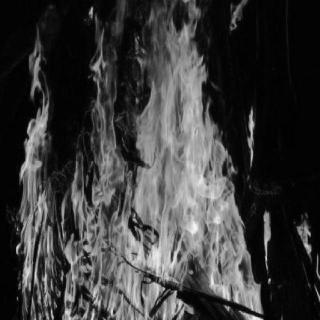Fire: (1, 1, 318, 317)
